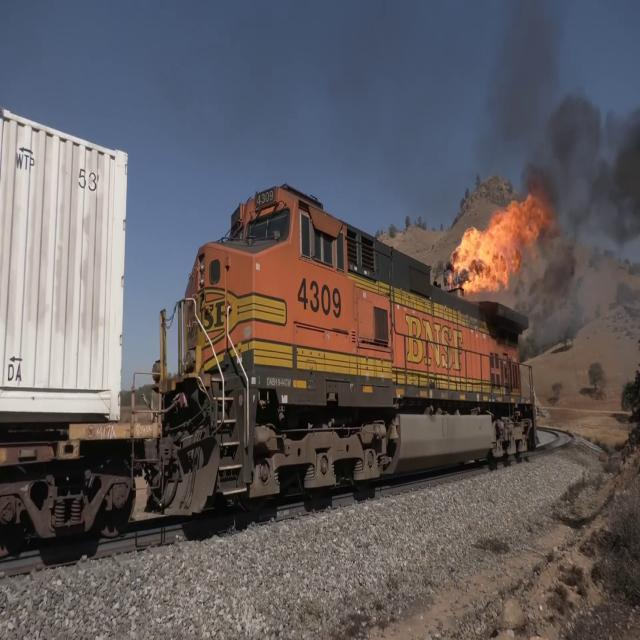Fire: (480, 184, 542, 292), (449, 204, 495, 303)
Smoke: (546, 95, 640, 258)
